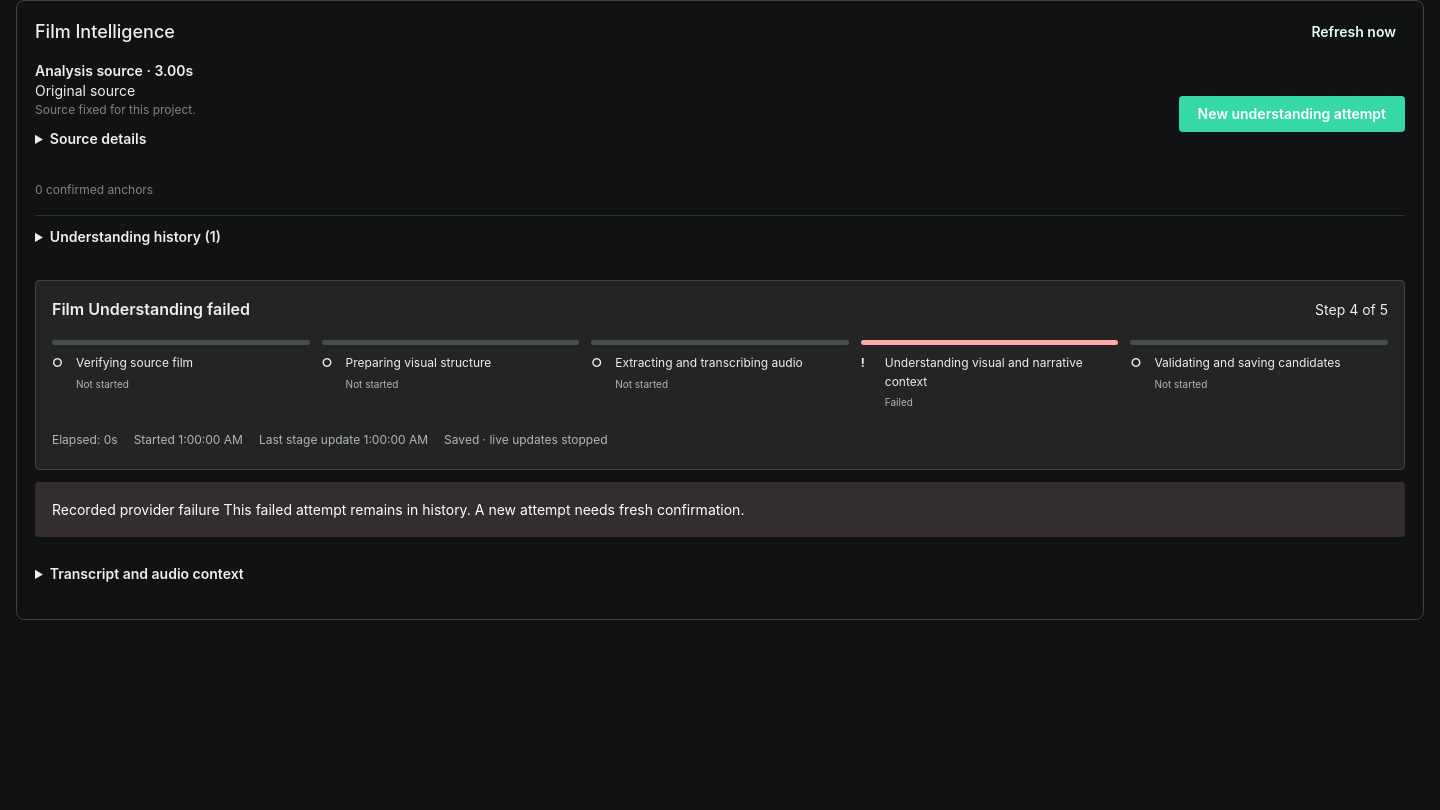
Test case: failed history remains visible and a new attempt requires a new consent dialog
Expected: the text "Recorded provider failure" is shown, [52, 501, 220, 518]
Click the button "New understanding attempt": (1292, 114) [1178, 96, 1405, 132]
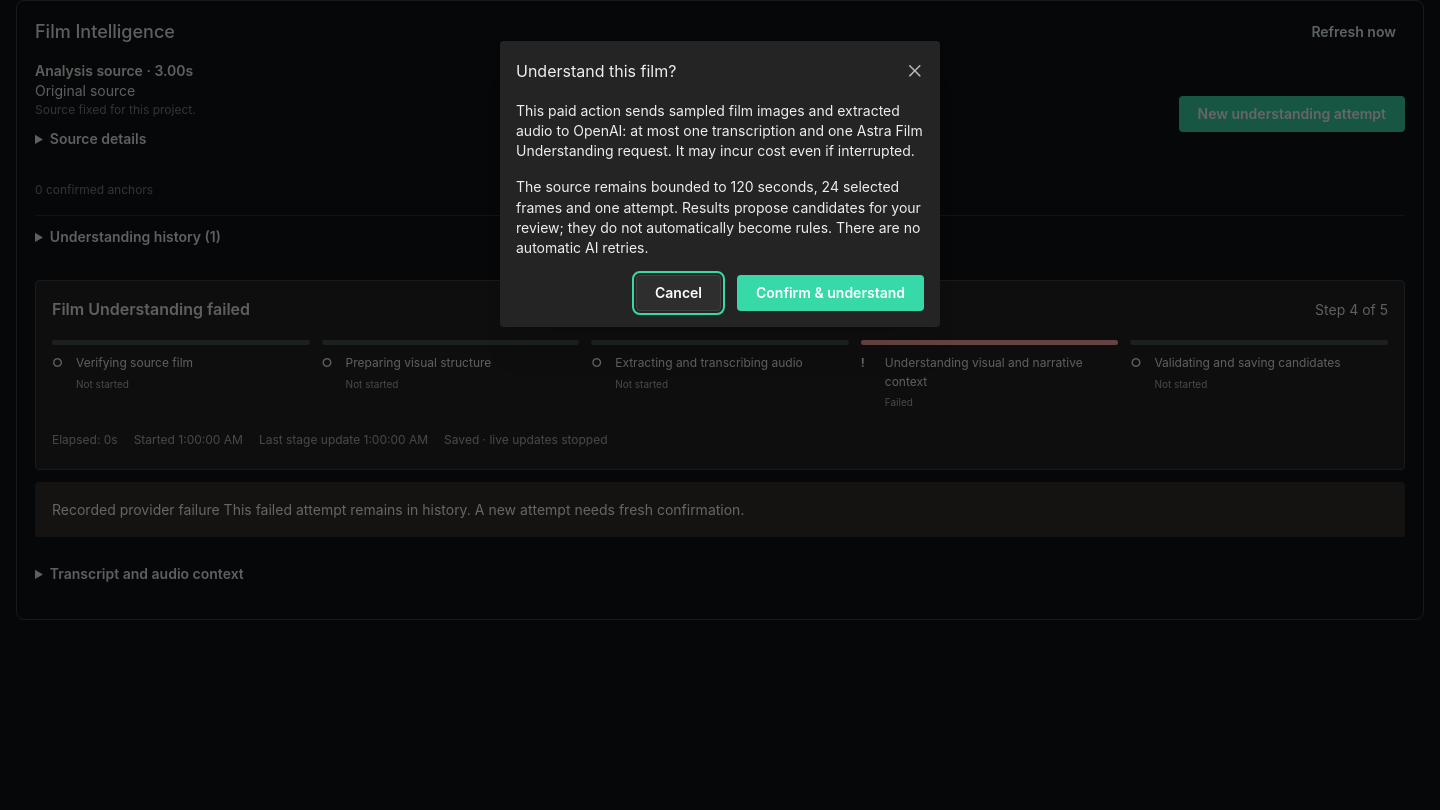
Now the dialog shows "This paid action", box [516, 102, 923, 159]
